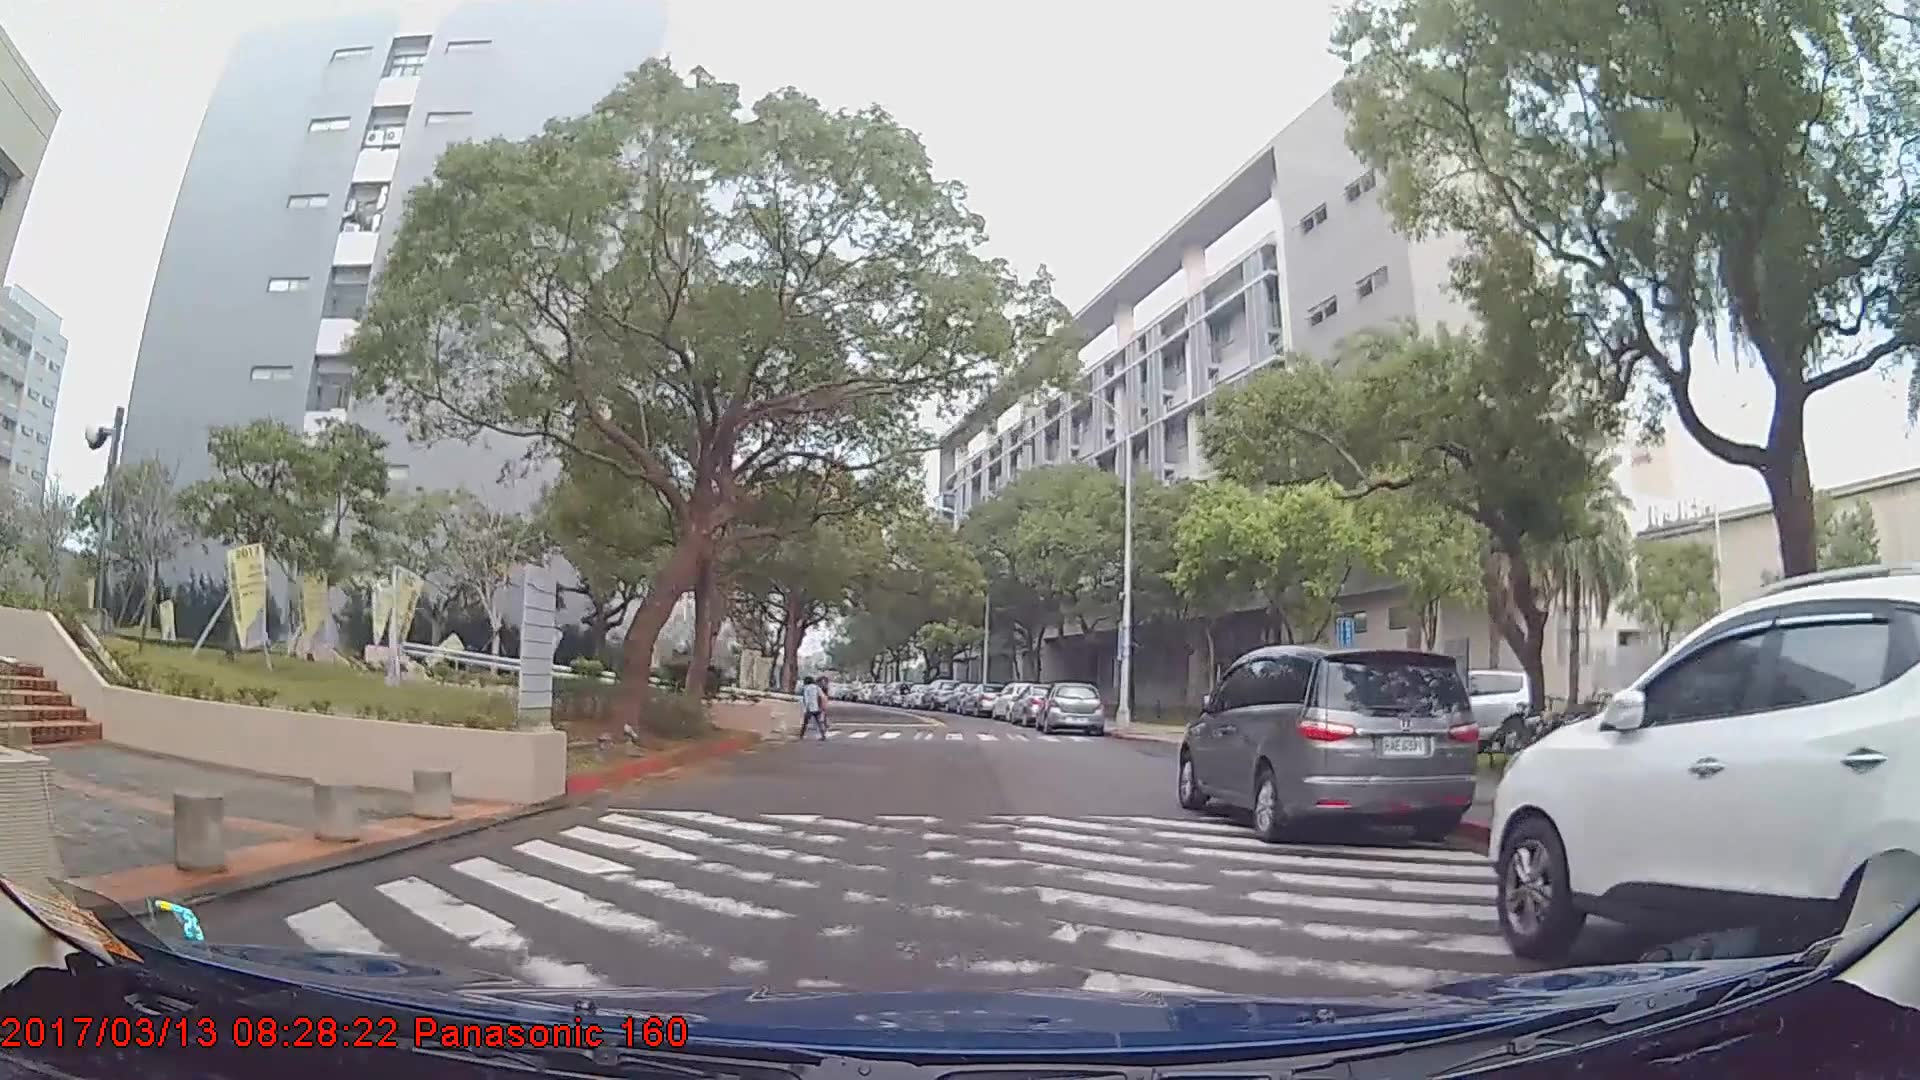pedestrian: (801, 677, 831, 744), (813, 663, 838, 730)
vehicle: (1488, 572, 1919, 978), (1178, 643, 1480, 845), (1041, 679, 1104, 733), (921, 677, 961, 710), (965, 684, 1006, 716)
